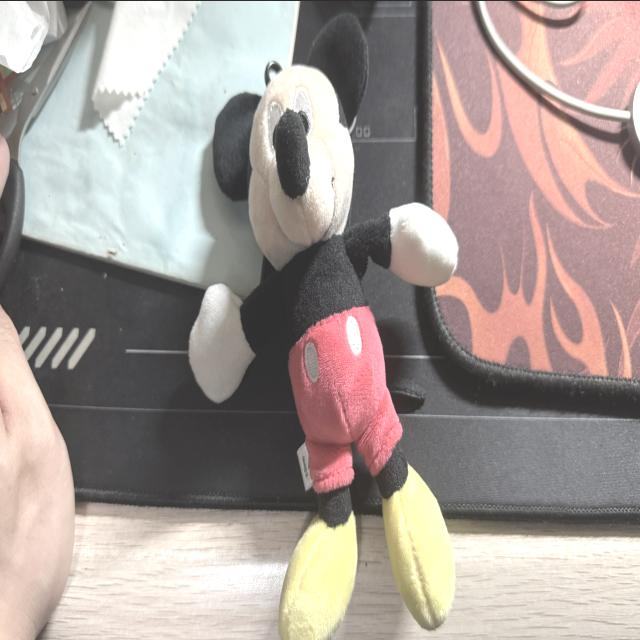mickey: (190, 14, 457, 639)
